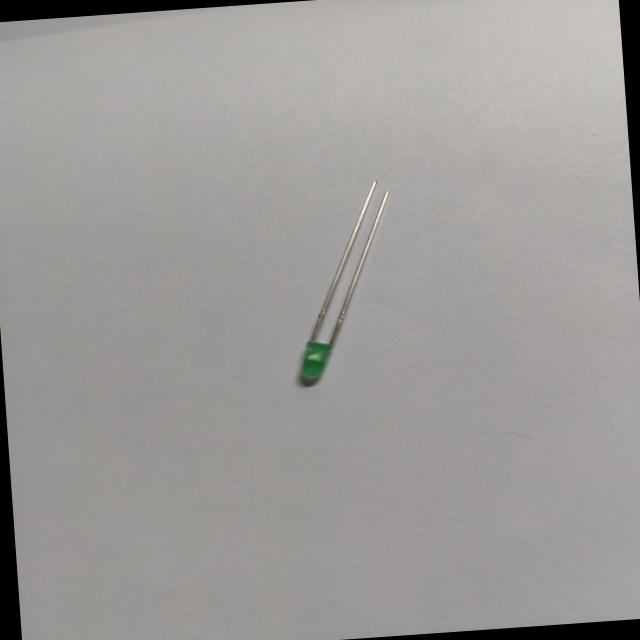led: (264, 168, 414, 400)
